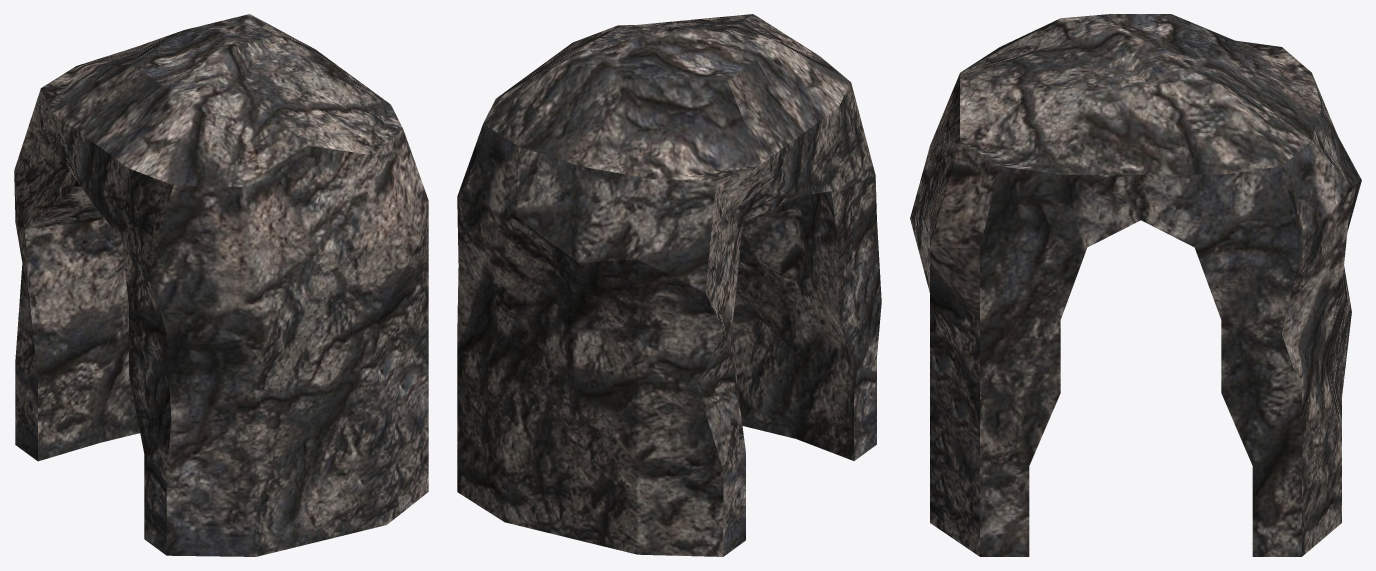
Rendered from Stone_3.fbx.
3 views of the same model, side by side, from view 1: azimuth 30°, elevation 25°; view 2: azimuth 150°, elevation 25°; view 3: azimuth 270°, elevation 25° (orthographic). The views are drawn at different scales.
Parts seen in each view (by area): view 1: Stone_3; view 2: Stone_3; view 3: Stone_3.
Part boxes in pixels (x1=…): Stone_3: x1=14, y1=14, x2=428, y2=556; Stone_3: x1=457, y1=14, x2=881, y2=556; Stone_3: x1=910, y1=14, x2=1361, y2=556.
Size of the model in its own units: 3413 by 5013 by 4513.
